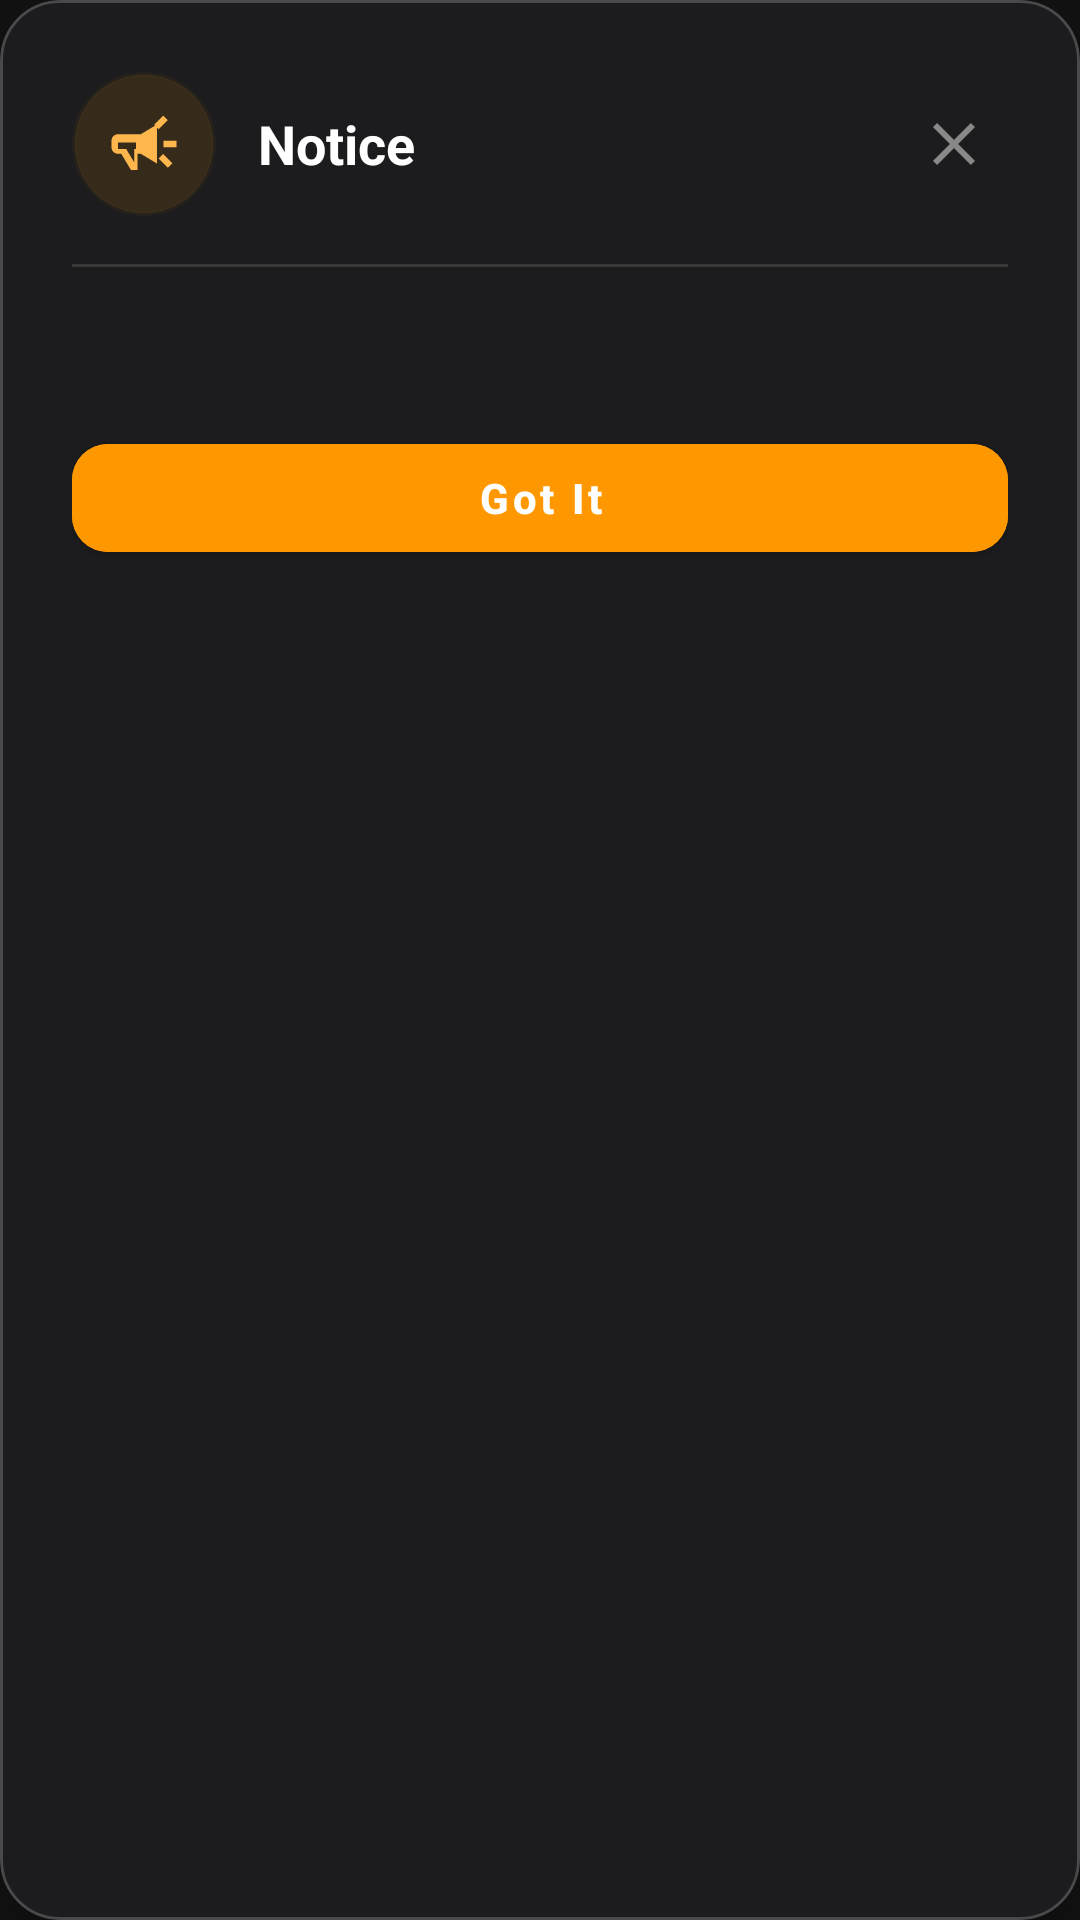

Named icons in this screenshot (1080w x 1920h) and their bounding boxes, [x1=x1, y1=y1, x2=x2, y2=y2]:
announcement: [x1=111, y1=115, x2=177, y2=170]
close: [x1=933, y1=123, x2=975, y2=165]
